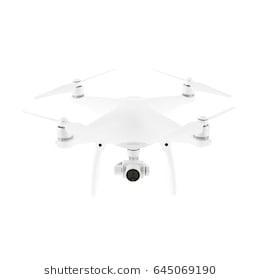drone: (0, 21, 260, 208)
